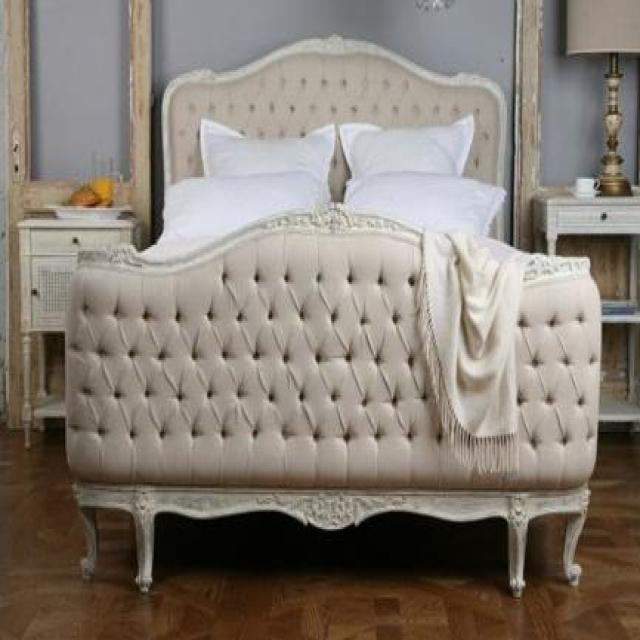bed: (64, 27, 602, 597)
table: (16, 212, 142, 449), (530, 185, 640, 434)
